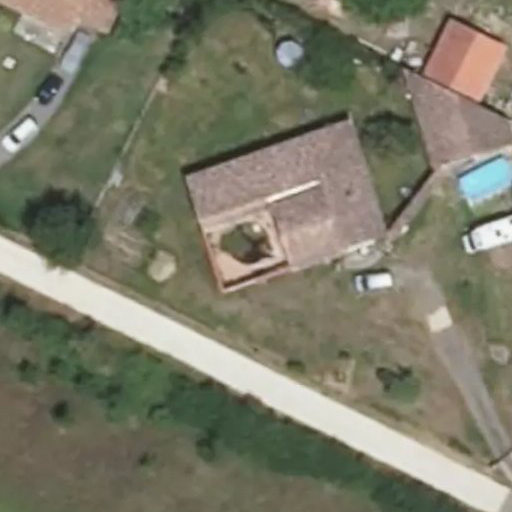pool: (225, 224, 284, 258)
